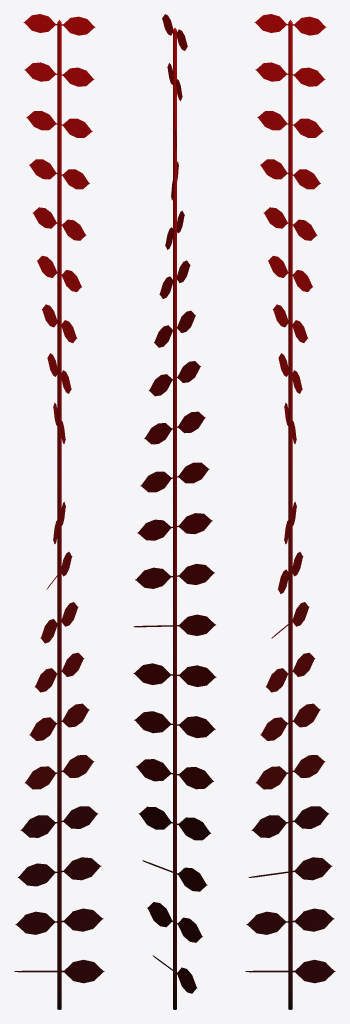
File: SM_PlantMooving_03.FBX
3 views of the same model, side by side, from view 1: azimuth 90°, elevation 25°; view 2: azimuth 210°, elevation 25°; view 3: azimuth 270°, elevation 25° (orthographic).
Visible parts, largest first — view 1: Cylinder127; view 2: Cylinder127; view 3: Cylinder127.
Boxes of the visible parts, left/top/right/bottom form: Cylinder127: left=14, top=14, right=104, bottom=1009; Cylinder127: left=133, top=14, right=216, bottom=1009; Cylinder127: left=245, top=14, right=335, bottom=1009.
Size of the model in its own units: 7.75 by 105 by 8.66.
